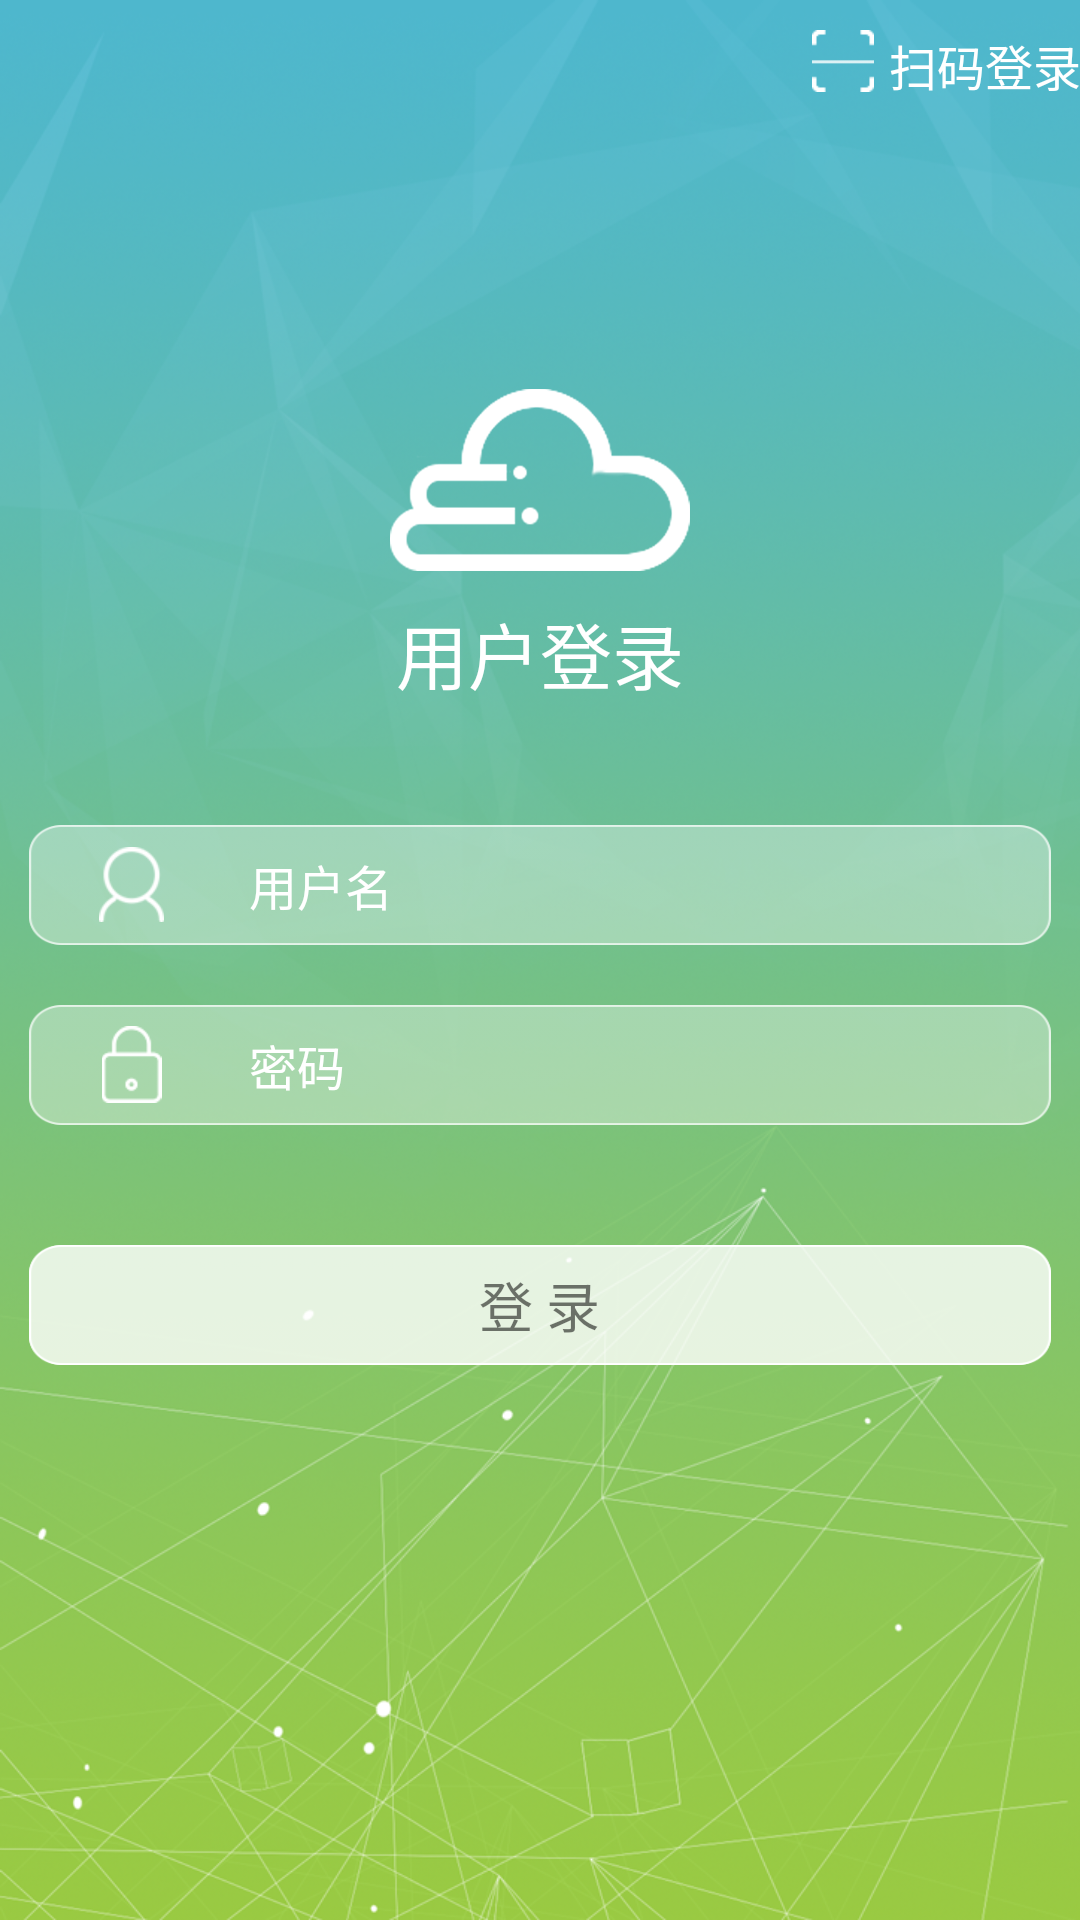

Named icons in this screenshot (1080 x 1920) and their centers, (x=x, y=y):
barcode: (x=843, y=61)
password: (x=132, y=1064)
username: (x=131, y=884)
